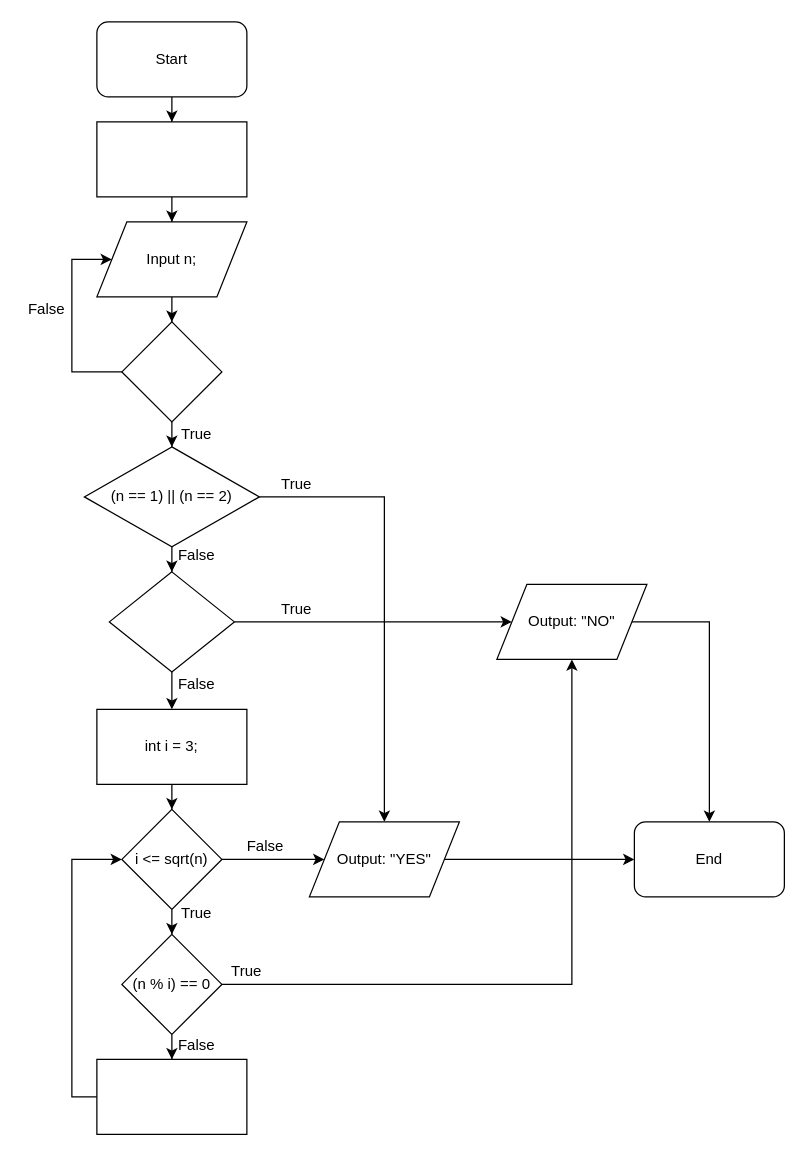
The diagram is 806 pixels wide and 1156 high, and some of its shapes have lost their labels. Each missing label, with the centre of its shape:
"(n % 2) == 0" goes at pixel 171 621.
"i += 2;" goes at pixel 171 1096.
"int n;" goes at pixel 171 159.
"n > 0" goes at pixel 171 371.
